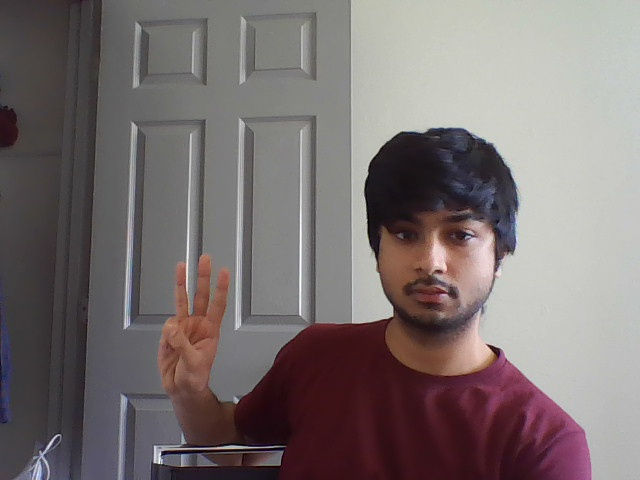three: (162, 248, 237, 336)
